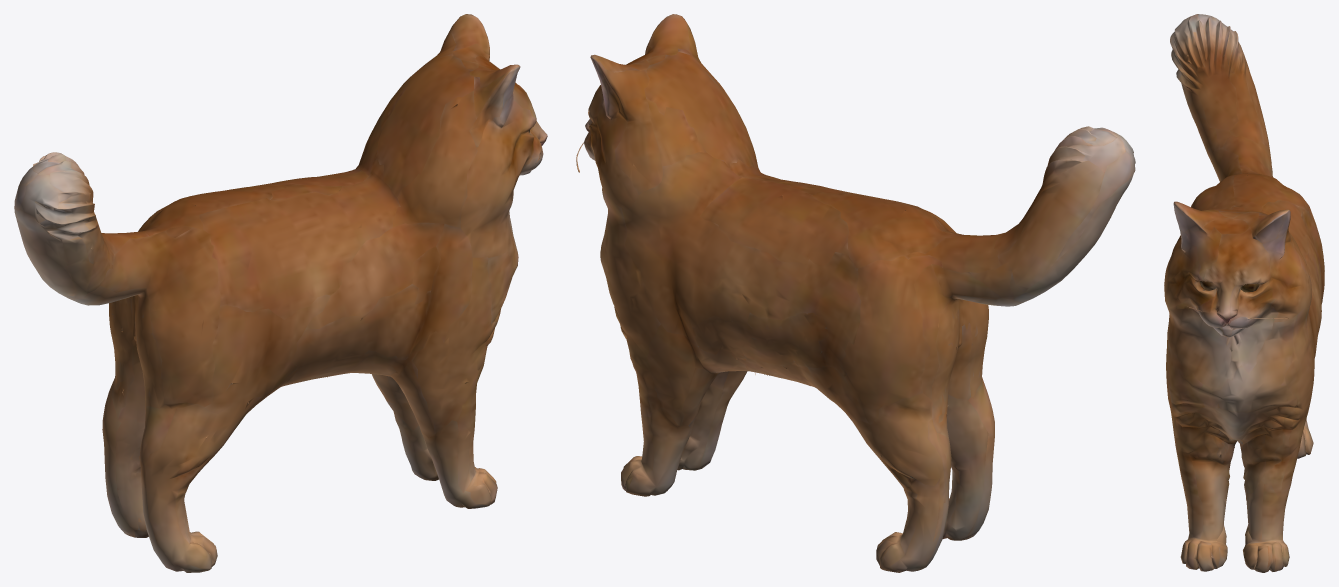
Rendered from COSMICGREG.glb.
3 renders of one model, left to right at view 1: azimuth 30°, elevation 25°; view 2: azimuth 150°, elevation 25°; view 3: azimuth 270°, elevation 25°, orthographic. The views are drawn at different scales.
Visible parts, largest first — view 1: material; view 2: material; view 3: material.
Boxes of the visible parts, x1=… form: material: x1=14, y1=14, x2=547, y2=572; material: x1=576, y1=14, x2=1135, y2=572; material: x1=1164, y1=14, x2=1324, y2=572.
Size of the model in its own units: 1.27 by 0.999 by 0.3871.
Materials: 1 (1 with a texture image).
